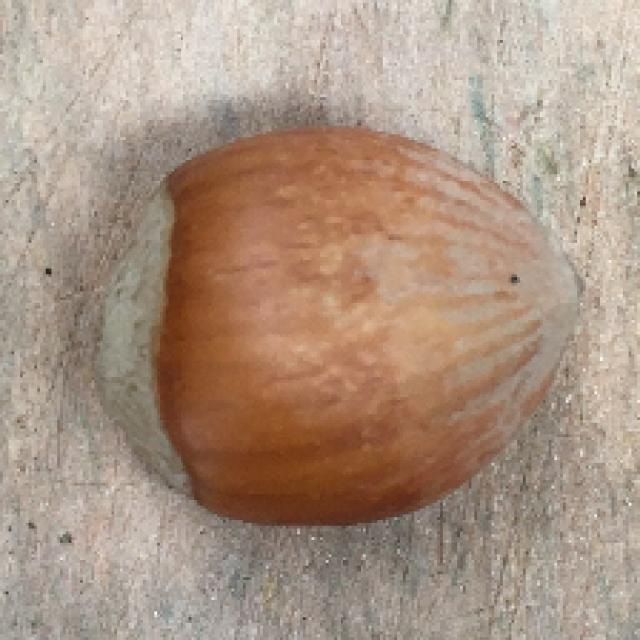hazelnut: (112, 113, 590, 530)
